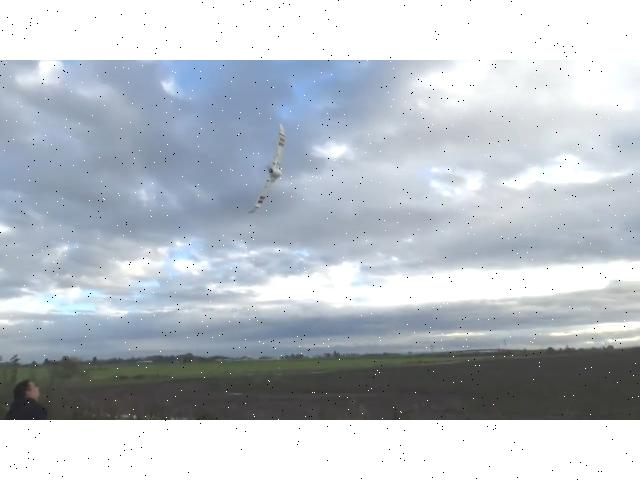Anti-Drone: (246, 122, 286, 216)
